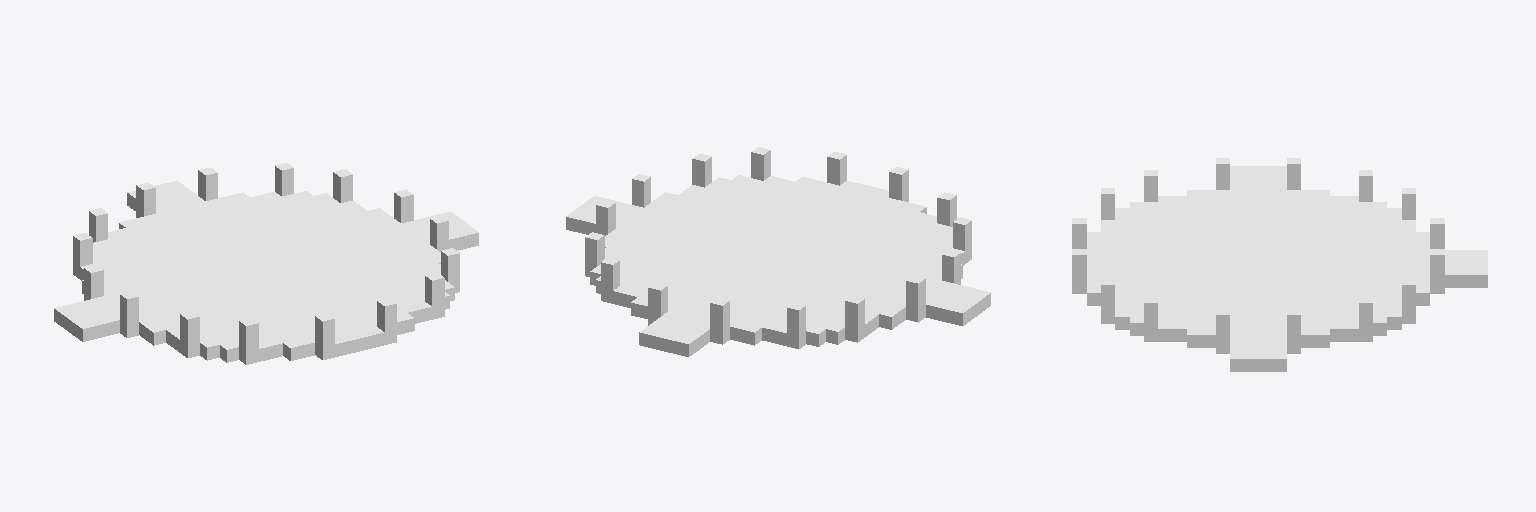
The model's file is fork5.obj.
3 views of the same model, side by side, from view 1: azimuth 30°, elevation 25°; view 2: azimuth 150°, elevation 25°; view 3: azimuth 270°, elevation 25° (orthographic).
Parts seen in each view (by area): view 1: object 1; view 2: object 1; view 3: object 1.
Part boxes in pixels (x1,y1,x2,y2): object 1: (54,163,478,364); object 1: (566,147,990,356); object 1: (1072,158,1487,371).
Bounding box in the file's own units: 3.2 × 0.3 × 2.9.